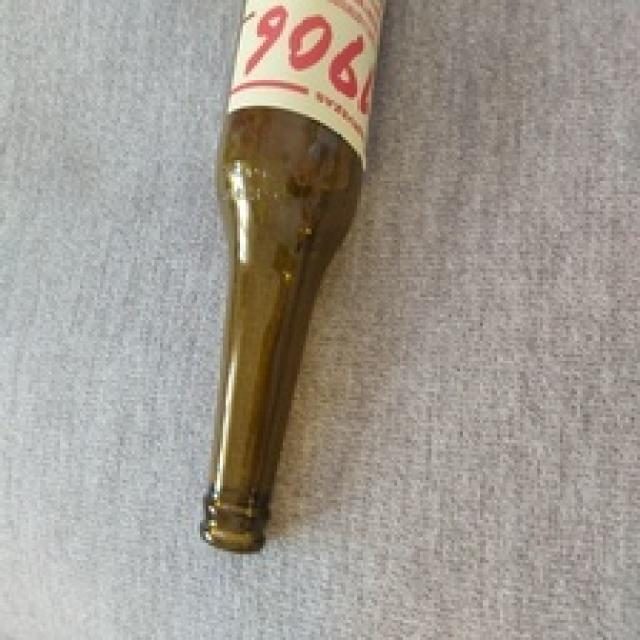Glass: (199, 0, 386, 553)
